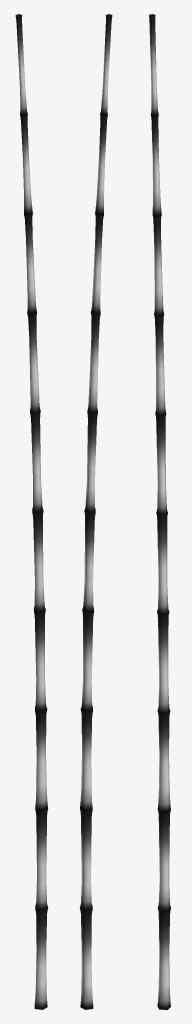
File: BambooStalk.fbx
3 renders of one model, left to right at view 1: azimuth 30°, elevation 25°; view 2: azimuth 210°, elevation 25°; view 3: azimuth 330°, elevation 25°, orthographic.
Parts seen in each view (by area): view 1: Stalk; view 2: Stalk; view 3: Stalk.
Part boxes in pixels (bbox=[...]): Stalk: bbox=[15, 14, 48, 1009]; Stalk: bbox=[80, 14, 112, 1009]; Stalk: bbox=[149, 14, 170, 1009].
Bounding box in the file's own units: 8.97 × 328 × 6.16.
Materials: 1 (1 with a texture image).
